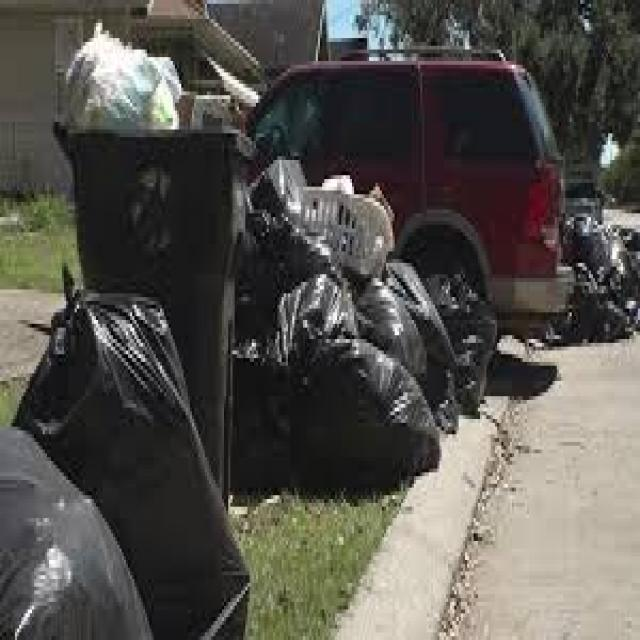garbage: (225, 148, 500, 498), (0, 258, 254, 636), (53, 15, 187, 134), (561, 183, 638, 347)
